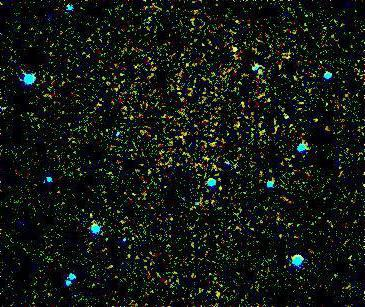star: (204, 172, 234, 202)
